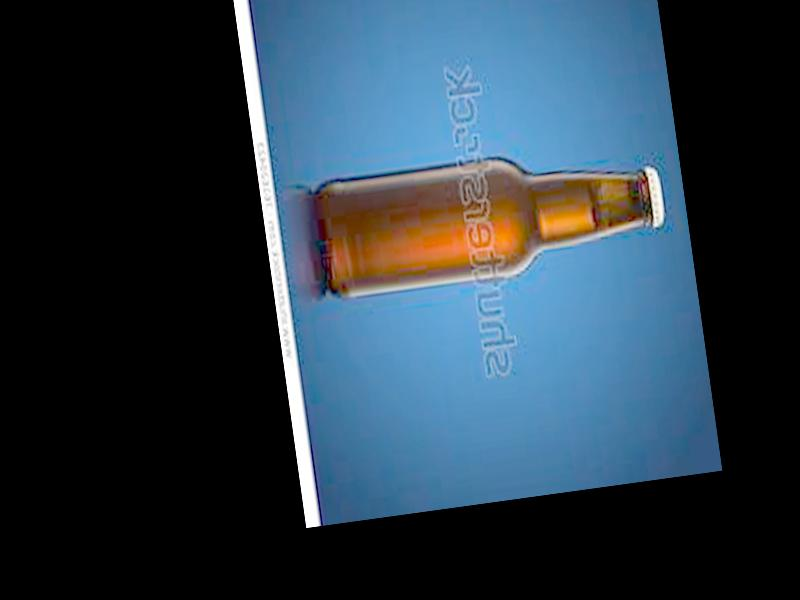Beer: (312, 134, 671, 302)
